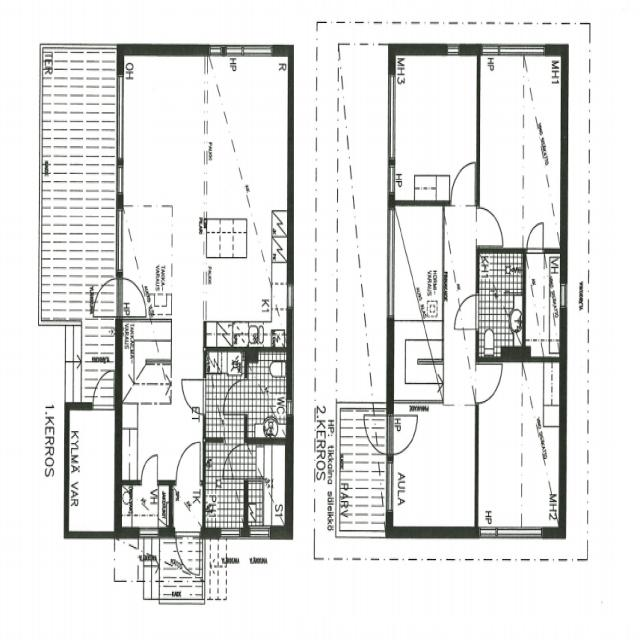door: (474, 355, 562, 535), (471, 357, 506, 405), (173, 436, 205, 488), (472, 201, 506, 248), (449, 159, 478, 209), (174, 532, 204, 579), (389, 411, 420, 456), (178, 372, 209, 416), (452, 289, 481, 335), (118, 276, 149, 318), (91, 276, 119, 318), (363, 409, 389, 454), (91, 367, 116, 410), (138, 450, 162, 487), (525, 218, 547, 254)
window: (526, 250, 564, 356), (383, 70, 401, 166), (384, 203, 398, 314), (113, 72, 128, 170), (489, 41, 547, 61), (113, 204, 126, 278), (219, 41, 273, 58), (494, 524, 543, 540), (385, 458, 395, 516), (136, 524, 162, 543), (114, 159, 126, 198), (248, 524, 273, 542), (217, 526, 243, 542), (284, 280, 296, 314), (558, 279, 569, 315), (444, 40, 463, 60), (478, 524, 499, 540)
zone: (200, 46, 291, 344), (478, 51, 562, 253), (476, 356, 562, 534), (391, 51, 478, 206), (202, 347, 290, 440), (202, 440, 286, 533), (67, 405, 116, 534), (122, 201, 173, 316), (476, 248, 524, 354), (525, 250, 563, 357), (119, 480, 170, 533)
